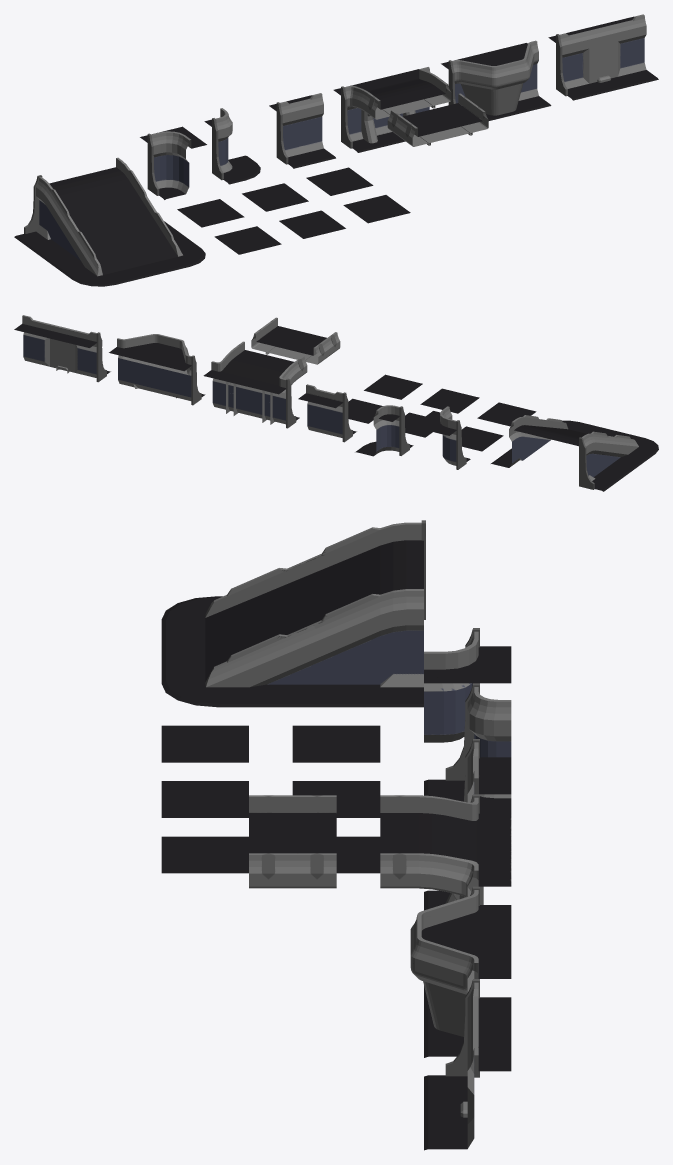
The model's file is STRUCTURAL_MASTER_2.0 (1).fbx.
3 renders of one model, top to bottom at view 1: azimuth 30°, elevation 25°; view 2: azimuth 150°, elevation 25°; view 3: azimuth 270°, elevation 25°, orthographic. The views are drawn at different scales.
Visible parts, largest first — view 1: Ramp, Wall C, Bridge, Balcony, Wall A, Bridge Exension, In Corner, Out Corner, Platform C, Ground B, Ground C, Platform A (+2 smaller); view 2: Ramp, Bridge, Balcony, Wall C, Bridge Exension, Wall A, Out Corner, In Corner, Ground C, Ground B, Ground A, Platform A (+2 smaller); view 3: Ramp, Bridge, Balcony, Bridge Exension, Wall C, In Corner, Out Corner, Platform A, Ground A, Ground C, Ground B, Platform B (+2 smaller).
Boxes of the visible parts, bbox=[...] form: Ramp: bbox=[14, 157, 205, 286]; Wall C: bbox=[548, 14, 658, 100]; Bridge: bbox=[333, 67, 451, 152]; Balcony: bbox=[441, 40, 551, 120]; Wall A: bbox=[269, 93, 335, 168]; Bridge Exension: bbox=[387, 93, 488, 146]; In Corner: bbox=[140, 126, 206, 199]; Out Corner: bbox=[204, 108, 260, 184]; Platform C: bbox=[306, 167, 373, 195]; Ground B: bbox=[279, 210, 345, 238]; Ground C: bbox=[343, 195, 410, 223]; Platform A: bbox=[177, 199, 244, 227]; Ramp: bbox=[491, 415, 658, 491]; Bridge: bbox=[203, 341, 307, 428]; Balcony: bbox=[109, 334, 205, 405]; Wall C: bbox=[14, 315, 110, 382]; Bridge Exension: bbox=[251, 317, 340, 364]; Wall A: bbox=[298, 384, 356, 442]; Out Corner: bbox=[355, 405, 413, 456]; In Corner: bbox=[412, 406, 470, 469]; Ground C: bbox=[364, 374, 422, 399]; Ground B: bbox=[420, 388, 479, 413]; Ground A: bbox=[477, 402, 536, 426]; Platform A: bbox=[461, 426, 503, 451]; Ramp: bbox=[161, 520, 425, 707]; Bridge: bbox=[380, 794, 511, 910]; Balcony: bbox=[410, 886, 511, 1057]; Bridge Exension: bbox=[249, 795, 336, 888]; Wall C: bbox=[424, 979, 511, 1150]; In Corner: bbox=[424, 628, 511, 742]; Out Corner: bbox=[424, 683, 511, 812]; Platform A: bbox=[292, 725, 380, 762]; Ground A: bbox=[161, 725, 248, 762]; Ground C: bbox=[161, 836, 248, 873]; Ground B: bbox=[161, 781, 248, 817]; Platform B: bbox=[292, 781, 380, 817].
Size of the model in its own units: 3000 by 268 by 800.
